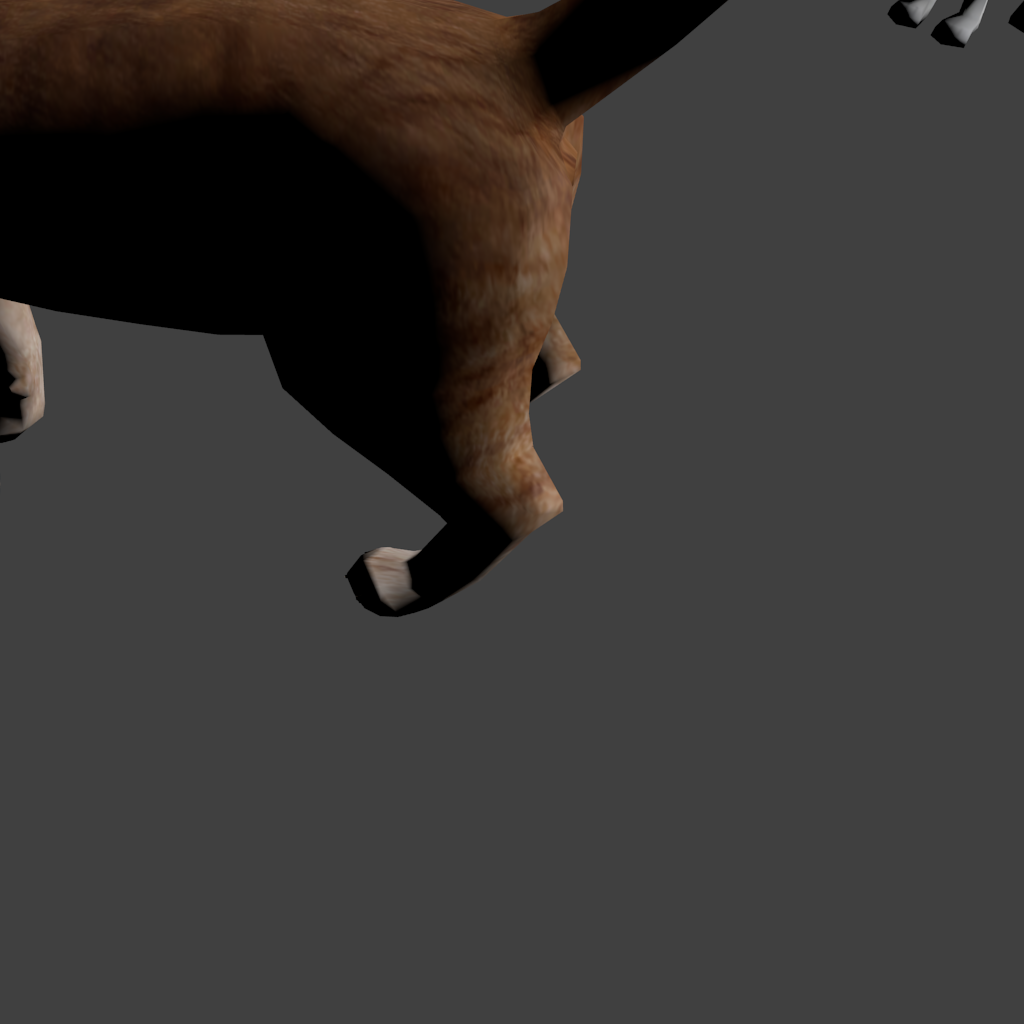Cat: (0, 0, 1024, 617)
